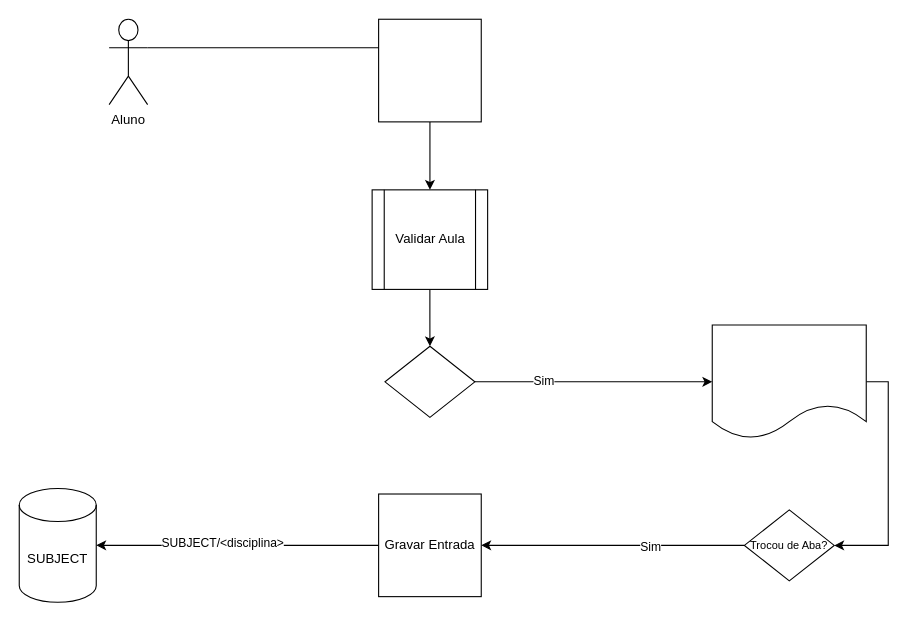
Some shapes in this 916 by 622 pixel diagram are drawn without their labels. Here are the shapes that lost their labels. From the top down, the box of each, then its label:
(378, 18, 481, 122): Ingressar
(384, 345, 475, 417): Regex Válida?
(711, 324, 866, 439): Ingressou na Reunião
